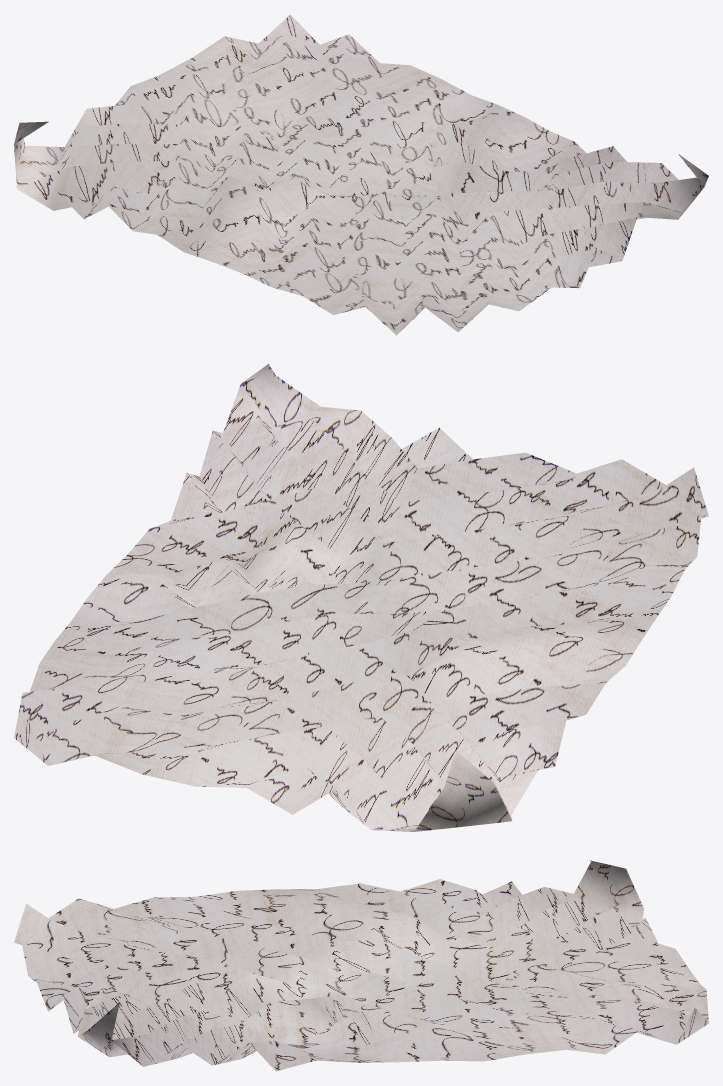
File: paper.glb
3 renders of one model, top to bottom at view 1: azimuth 30°, elevation 25°; view 2: azimuth 150°, elevation 25°; view 3: azimuth 270°, elevation 25°, orthographic. The views are drawn at different scales.
Visible parts, largest first — view 1: Plane; view 2: Plane; view 3: Plane.
Part boxes in pixels (x1=…): Plane: x1=14, y1=14, x2=708, y2=335; Plane: x1=14, y1=364, x2=708, y2=831; Plane: x1=14, y1=860, x2=708, y2=1071.
Bounding box in the file's own units: 0.3621 × 0.0856 × 0.485.
1 material, 1 textured.
